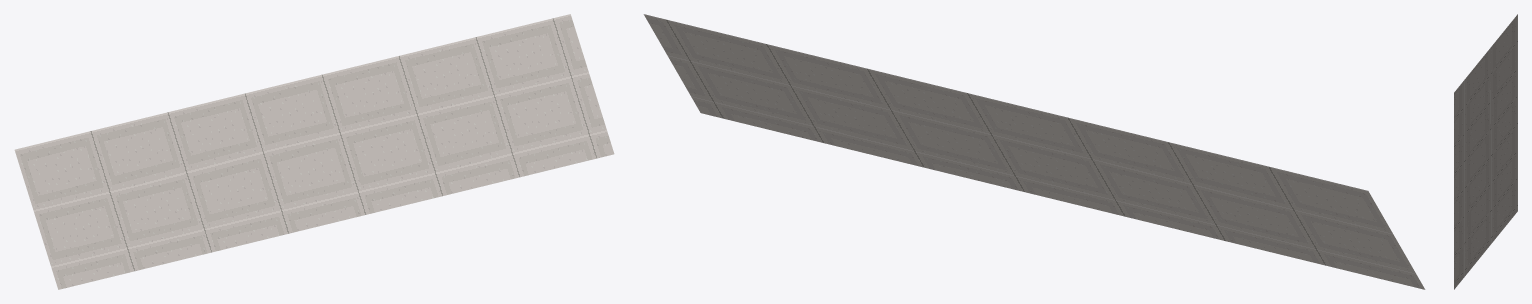
File: kd_stage_135d18_3_18_bounded_piece_0.glb
3 renders of one model, left to right at view 1: azimuth 30°, elevation 25°; view 2: azimuth 150°, elevation 25°; view 3: azimuth 270°, elevation 25°, orthographic. The views are drawn at different scales.
Visible parts, largest first — view 1: kd_stage_135d18_3_18_bounded_piece_0; view 2: kd_stage_135d18_3_18_bounded_piece_0; view 3: kd_stage_135d18_3_18_bounded_piece_0.
Part boxes in pixels (box(x1,y1,x2,y2)): kd_stage_135d18_3_18_bounded_piece_0: box(14, 14, 614, 289); kd_stage_135d18_3_18_bounded_piece_0: box(643, 14, 1425, 289); kd_stage_135d18_3_18_bounded_piece_0: box(1454, 14, 1517, 289).
Bounding box in the file's own units: 5.41 × 1.01 × 0.7399.
1 material, 1 textured.
